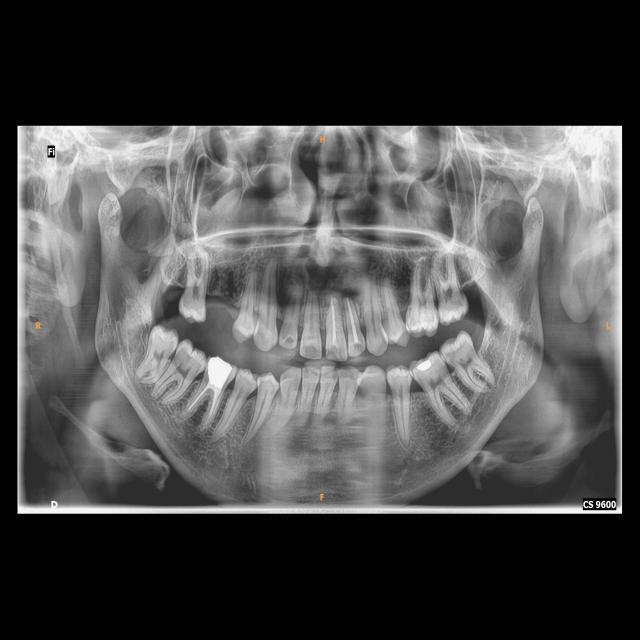dolgu: (413, 356, 433, 375)
kanal-tedavisi: (193, 387, 221, 425), (345, 288, 362, 343), (326, 294, 339, 344)
kaplama: (207, 353, 235, 390)
